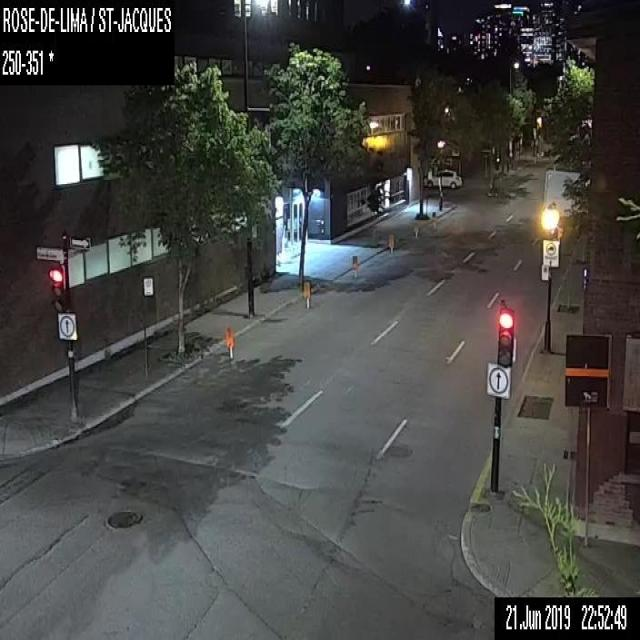construction: (224, 328, 234, 358), (302, 279, 312, 306), (429, 220, 438, 240), (386, 233, 393, 256), (414, 224, 421, 243), (351, 255, 357, 276)
vehicle: (426, 165, 462, 188)
